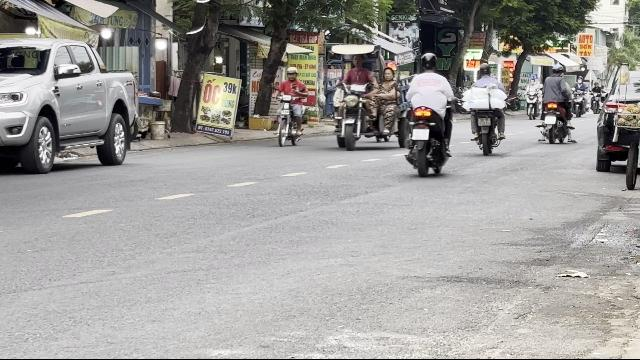helmet: (419, 51, 437, 71), (286, 66, 298, 80)
licenseplate: (412, 129, 428, 139)
motorcyclist: (401, 51, 455, 175), (273, 65, 309, 147)
